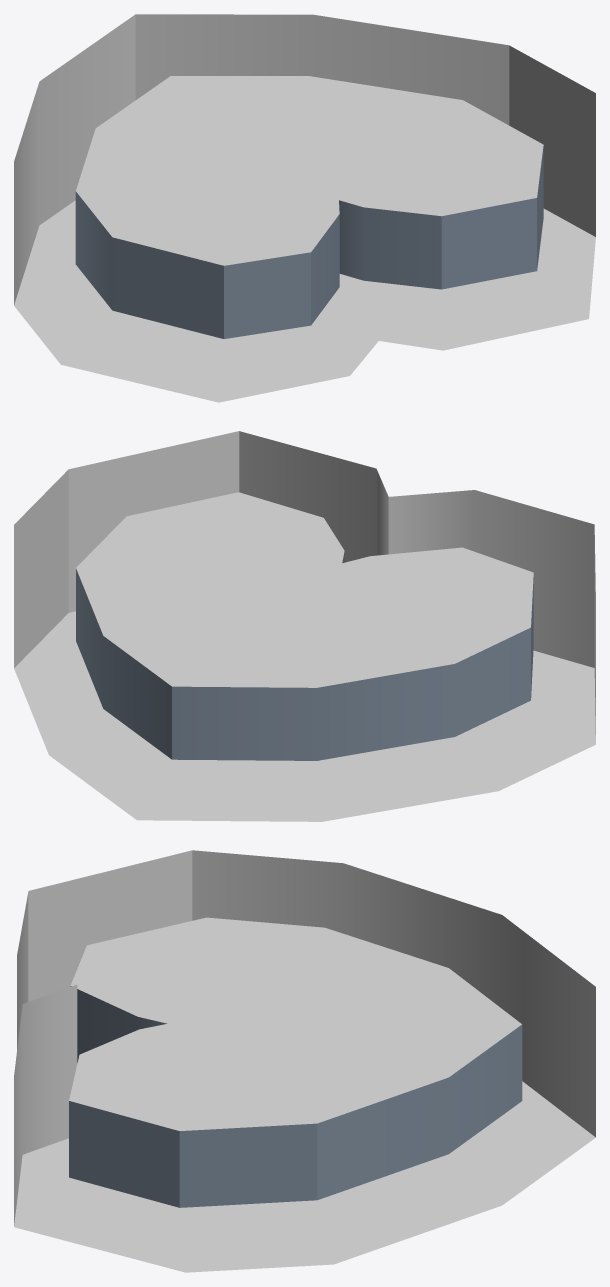
File: CFCDonationGlobeHeart.glb
The picture shows the model from 3 angles, top to bottom: view 1: azimuth 30°, elevation 25°; view 2: azimuth 150°, elevation 25°; view 3: azimuth 270°, elevation 25°; orthographic projection. The views are drawn at different scales.
Parts seen in each view (by area): view 1: CFCDonationGlobeHeart; view 2: CFCDonationGlobeHeart; view 3: CFCDonationGlobeHeart.
Boxes of the visible parts, bbox=[...] form: CFCDonationGlobeHeart: bbox=[14, 14, 595, 402]; CFCDonationGlobeHeart: bbox=[14, 431, 595, 821]; CFCDonationGlobeHeart: bbox=[14, 850, 595, 1272].
Size of the model in its own units: 0.3125 by 0.0809 by 0.2829.
